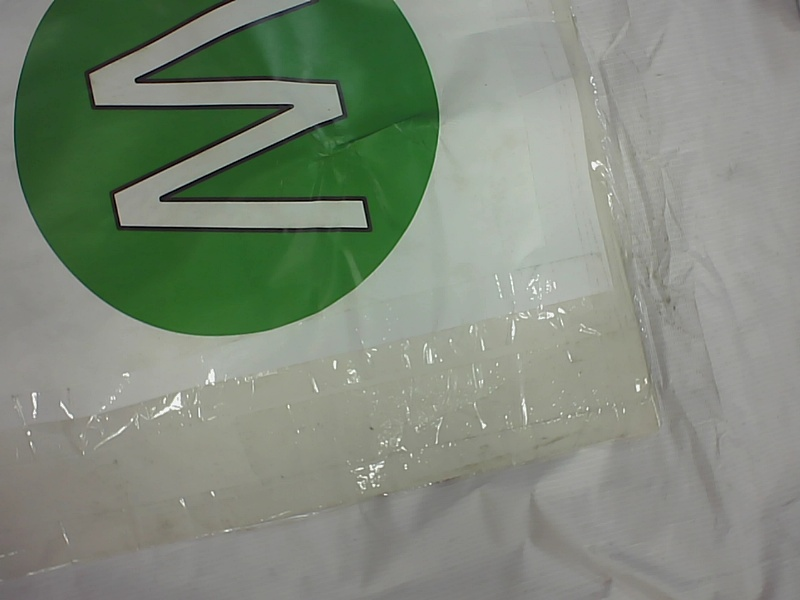areaB: (6, 3, 446, 334)
